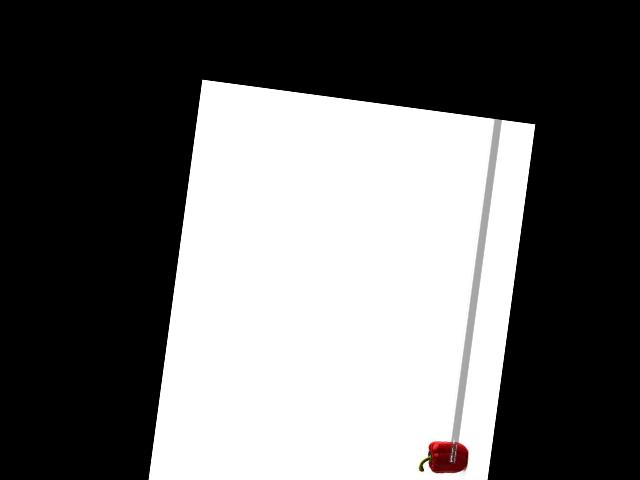bell_pepper: (415, 435, 468, 480)
